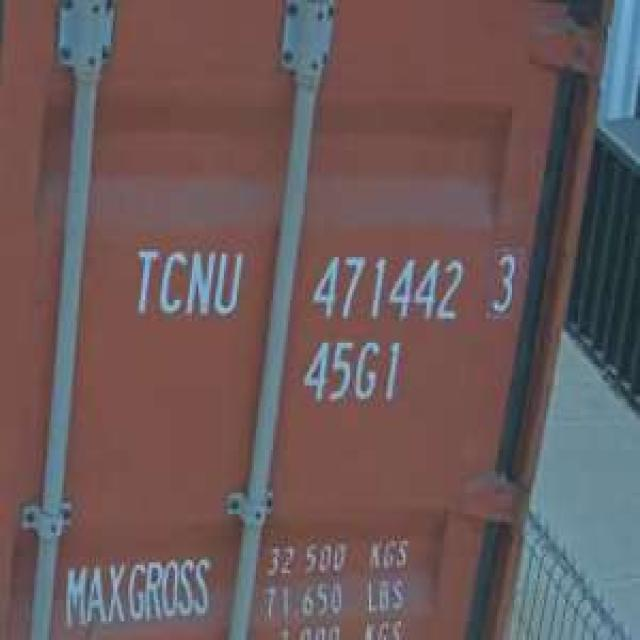dv: (483, 244, 525, 323)
owner: (125, 237, 248, 323)
serial: (308, 251, 467, 326)
size: (293, 332, 407, 408)
